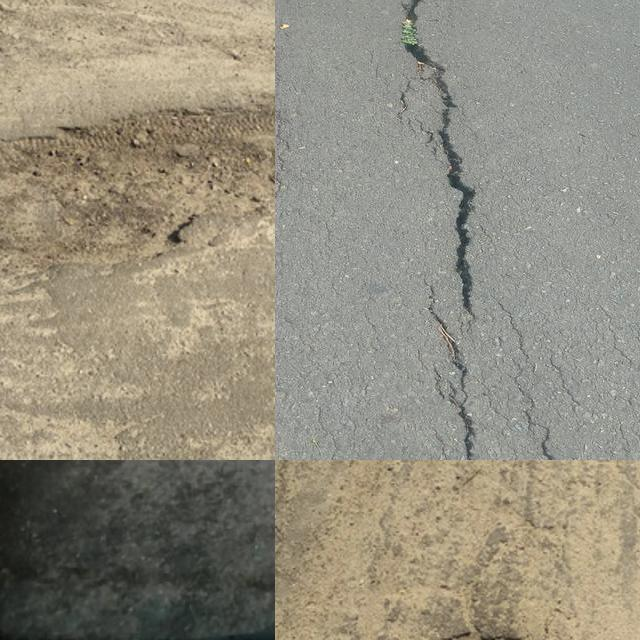Lubang: (0, 111, 275, 289)
Memanjang: (387, 0, 487, 460)
